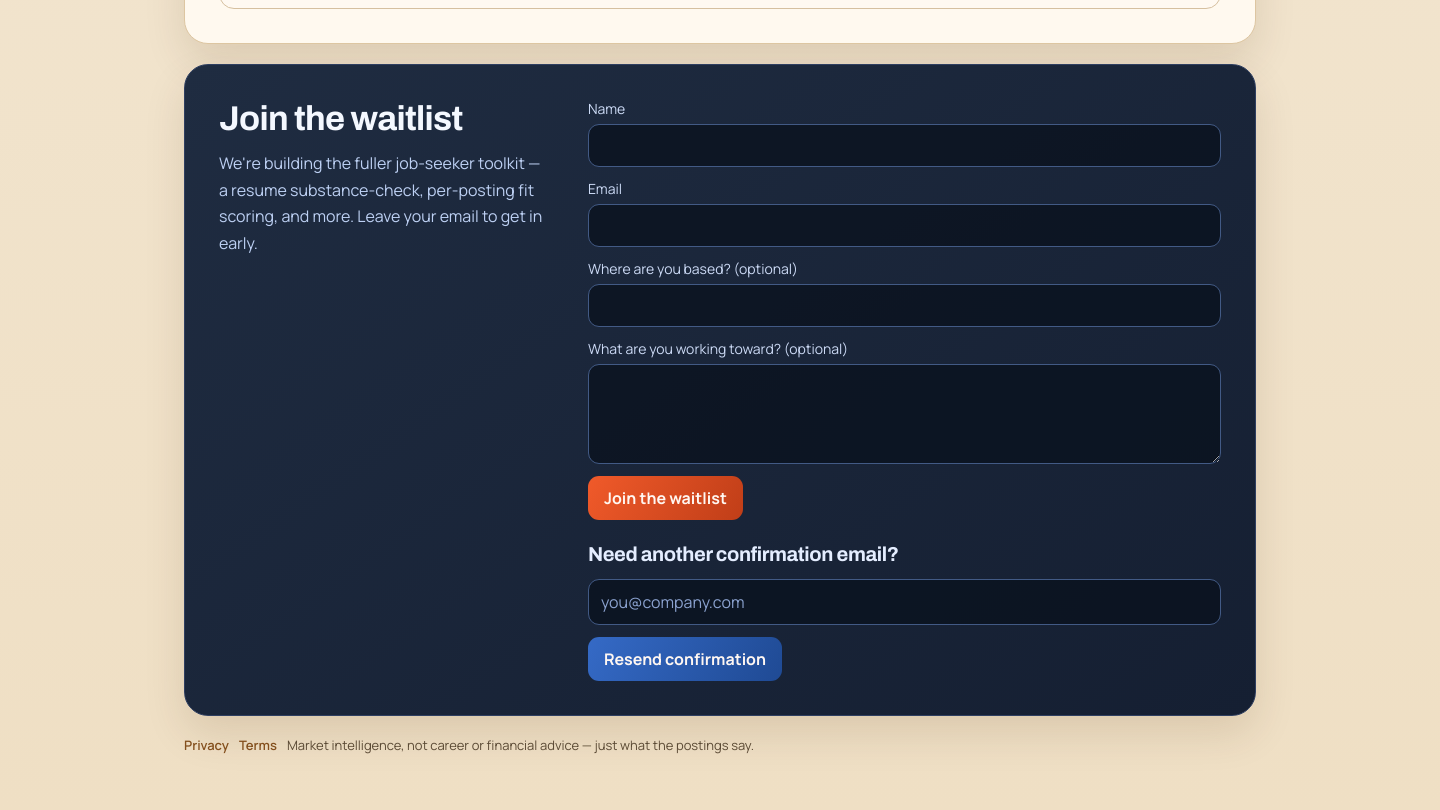
Test: App › resend confirmation › sends resend request and shows feedback
(page scrolled)
Type "test@example.com" into the field with placeholder "you@company.com" at (904, 602), box [588,579,1221,625]
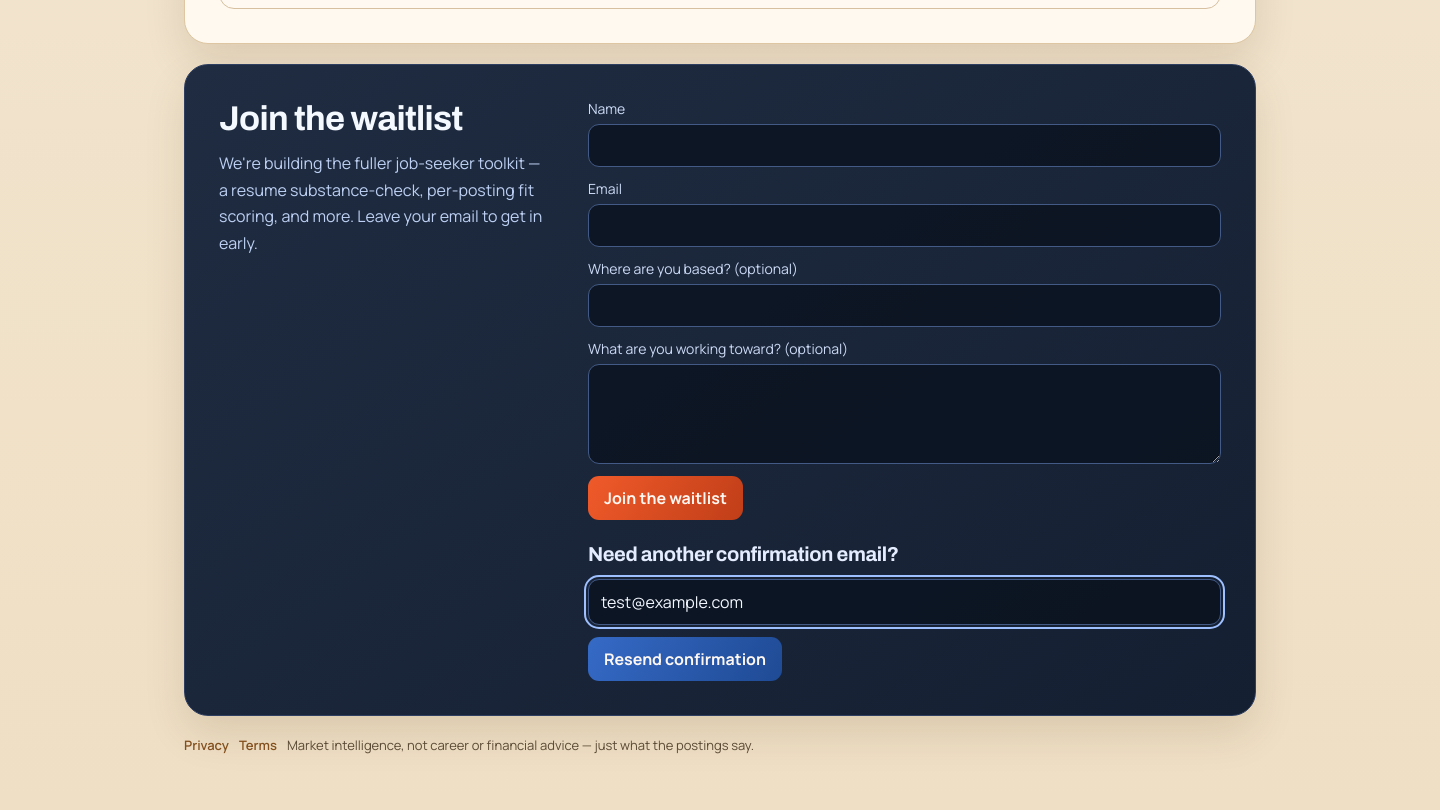
Click the button "Resend confirmation" at (685, 659), box [588,637,782,681]
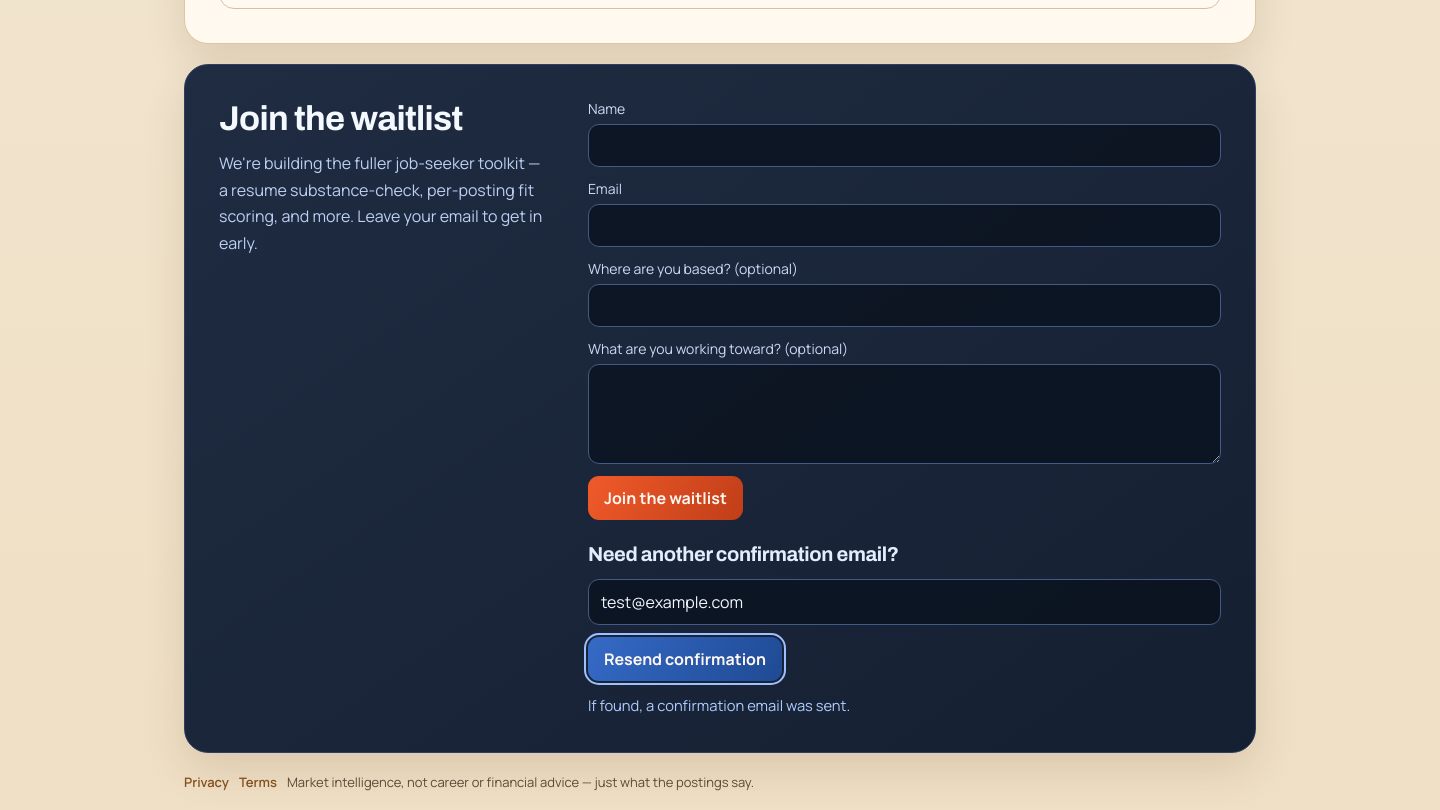
Expected: the text "If found, a confirmation email was sent." is shown, [588,695,850,715]
